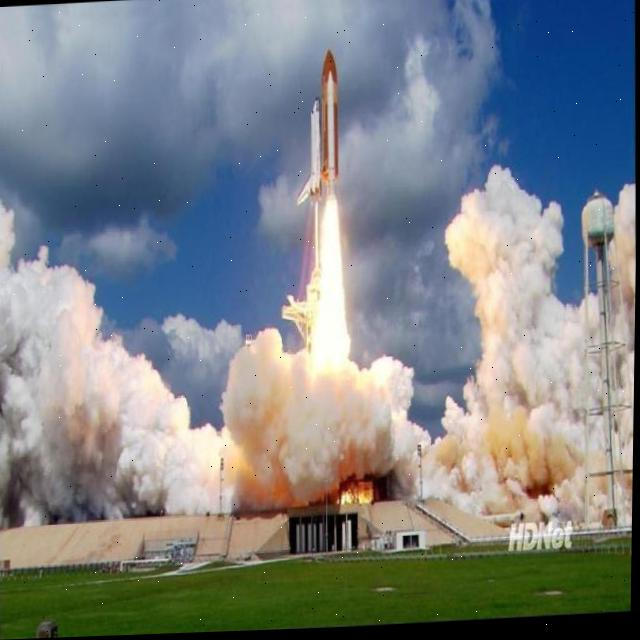missile: (295, 53, 345, 204)
